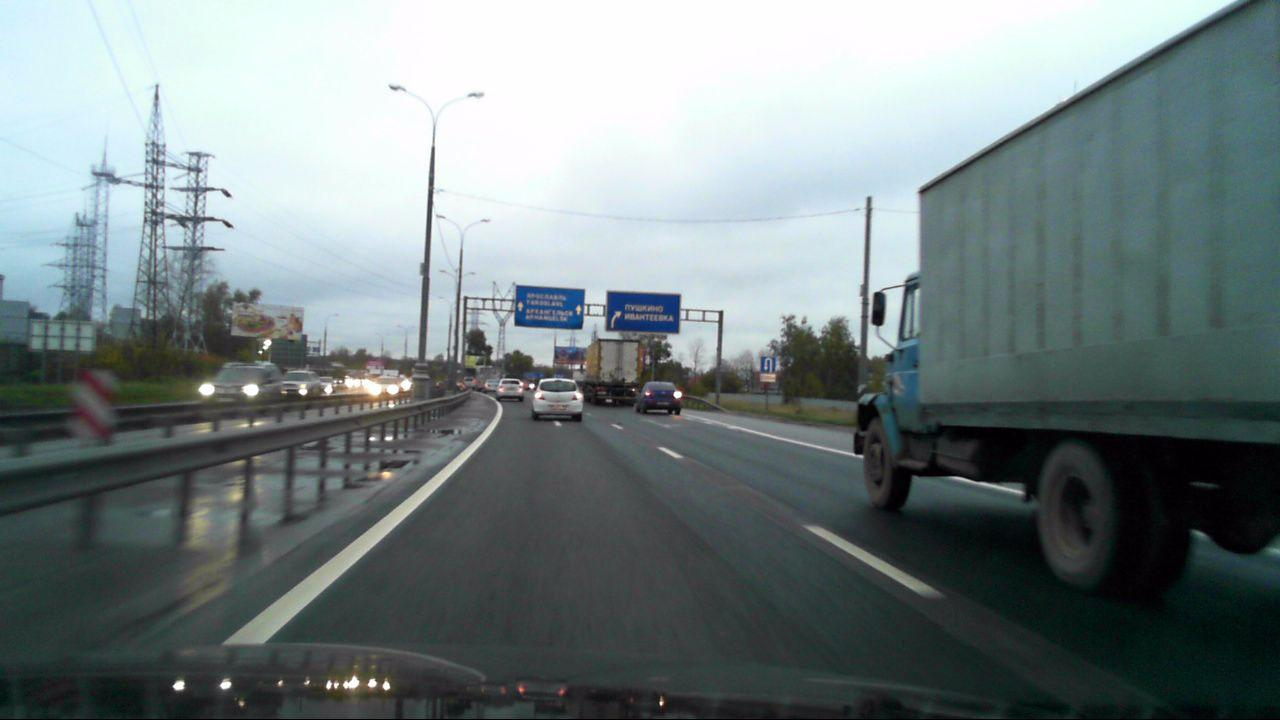6_10_1: (606, 287, 680, 333), (514, 283, 585, 330)
6_3_1: (759, 356, 775, 372)
8_2_1: (761, 373, 775, 382)
